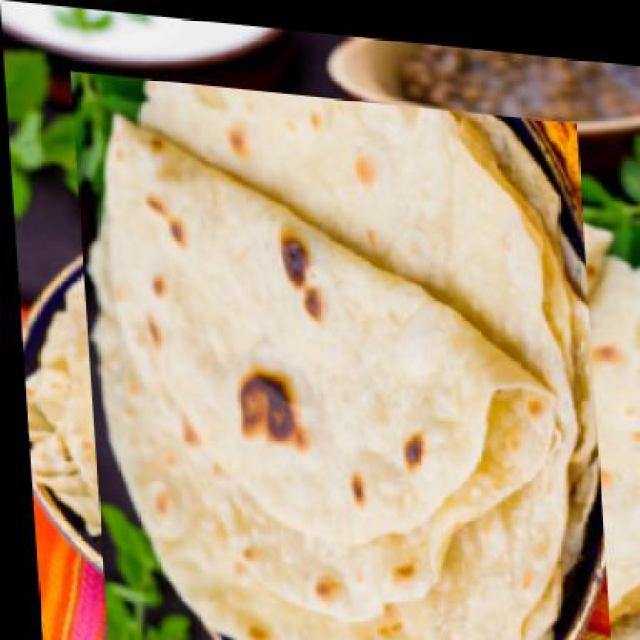chapati: (37, 97, 638, 638)
